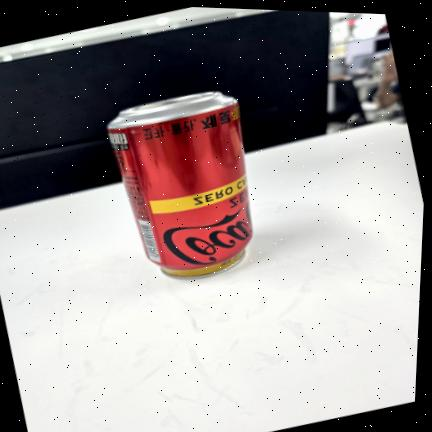can_coke_decaf: (107, 91, 253, 279)
